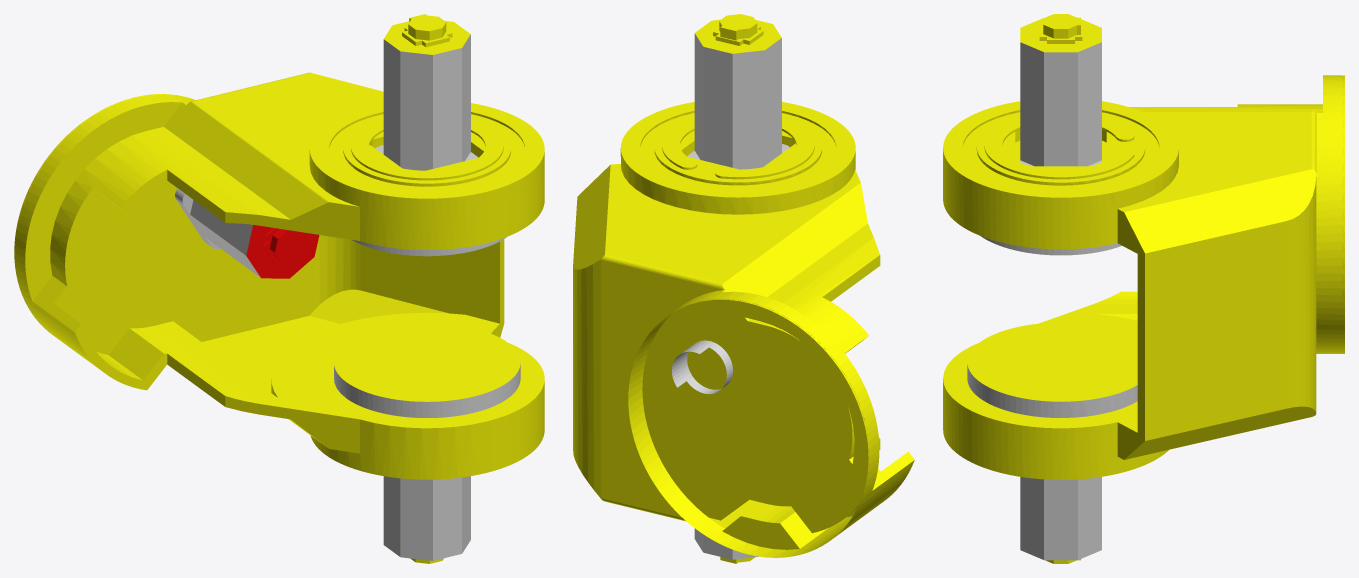
3 renders of one model, left to right at view 1: azimuth 30°, elevation 25°; view 2: azimuth 150°, elevation 25°; view 3: azimuth 270°, elevation 25°, orthographic.
Visible parts, largest first — view 1: node; view 2: node; view 3: node.
Boxes of the visible parts, box(x1,y1,x2,y2) form: node: box(14, 14, 544, 563); node: box(573, 14, 914, 563); node: box(943, 14, 1344, 563).
Bounding box in the file's own units: 954 × 1244 × 846.
